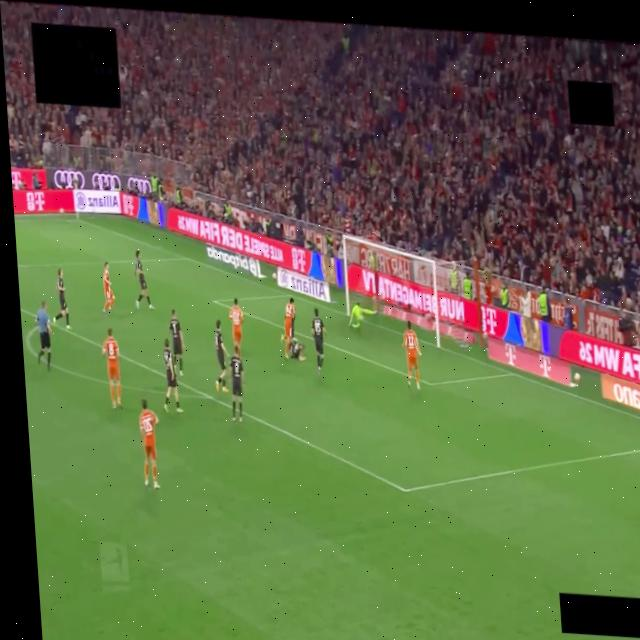player: (139, 400, 159, 488), (102, 328, 121, 409), (163, 339, 182, 412), (402, 322, 420, 389), (134, 250, 153, 309), (53, 269, 70, 330), (229, 347, 243, 421), (168, 309, 183, 376), (311, 308, 326, 375), (214, 319, 227, 392), (280, 298, 295, 359), (229, 298, 242, 352), (349, 302, 375, 328), (102, 262, 114, 314), (289, 338, 305, 361)
referee: (35, 301, 51, 370)
